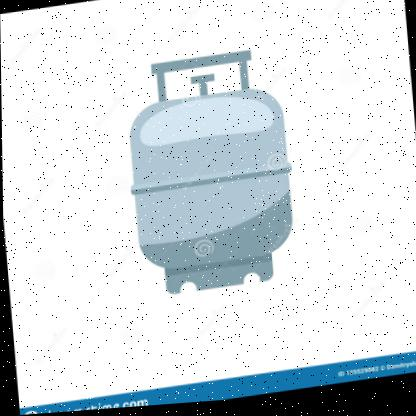gas-tank: (106, 36, 327, 326)
